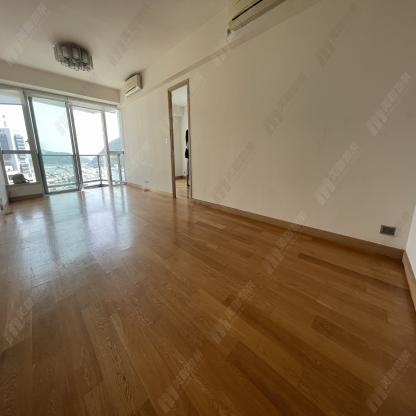AC: (228, 0, 287, 32), (124, 74, 142, 97)
